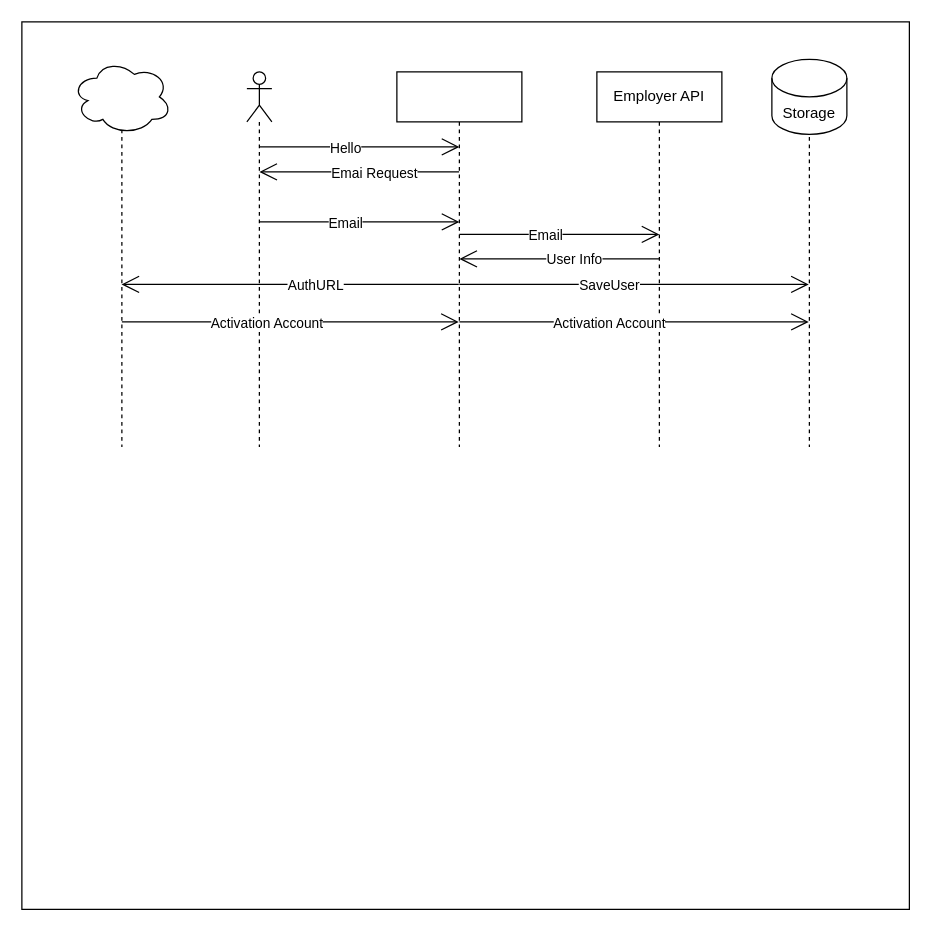
This 931x931 diagram has some shape labels left out. Here are the shapes that lost their labels. From the top down, the centre of each, then its label:
the point at 121,96: User Mail
the point at 459,259: TG Bot
